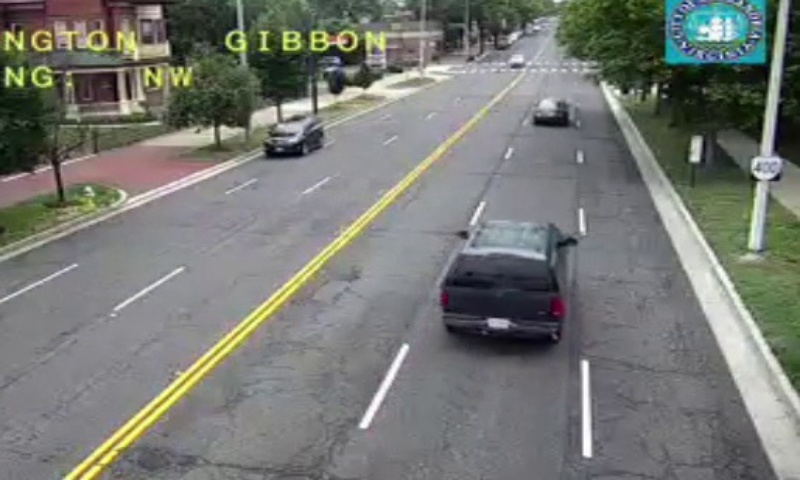car: (442, 219, 564, 338), (532, 100, 568, 124)
